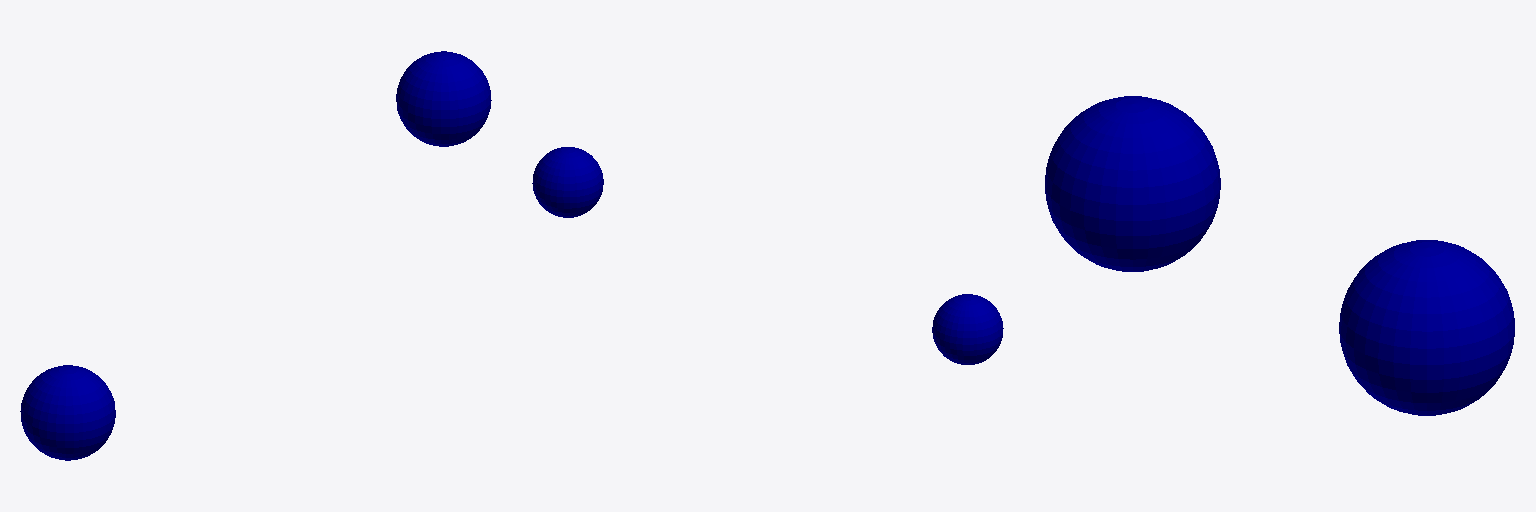
robot.urdf — Floor:
<?xml version="1.0"?>
<robot name="Floor">
    <link name="robot_base">
        <visual name="ball1">
            <origin rpy="0.000000 0.000000 -0.000000" xyz="0.000000 1.000000 0.80000" />
            <geometry>
                <sphere radius="0.3"/>
            </geometry>
            <material name="CFSObstacle_material">
                <color rgba="0.000000 0.0 0.640000 1.0" />
            </material>
        </visual>
        <collision name="ball1">
            <origin rpy="0.000000 0.000000 -0.000000" xyz="0.000000 1.000000 0.80000" />
            <geometry>
                <sphere radius="0.3"/>
                <dissipation>1</dissipation>
            </geometry>
        </collision>
        <visual name="ball2">
            <origin rpy="0.000000 0.000000 -0.000000" xyz="3.3 2.00000 1.80000" />
            <geometry>
                <sphere radius="0.3"/>
            </geometry>
            <material name="CFSObstacle_material">
                <color rgba="0.000000 0.0 0.640000 1.0" />
            </material>
        </visual>
        <collision name="ball2">
            <origin rpy="0.000000 0.000000 -0.000000" xyz="3.3 2.00000 1.80000" />
            <geometry>
                <sphere radius="0.3"/>
                <dissipation>1</dissipation>
            </geometry>
        </collision>
        <visual name="Floor_2">
            <origin rpy="1.57 3.141593 -3.141593" xyz="0.000000 0.000000 -0.100000" />
            <geometry>
                <mesh filename="[local-path]/Documents/workspace/drake_cfs_lib/script/environment_description/environment/environment_Floor_vis_1.obj" />
            </geometry>
            <material name="Floor_material">
                <color rgba="0.640000 0.640000 0.640000 1.0" />
            </material>
        </visual>
        <visual name="Floor_3">
            <origin rpy="1.57 3.141593 -3.141593" xyz="0.000000 0.000000 -0.100000" />
            <geometry>
                <mesh filename="[local-path]/Documents/workspace/drake_cfs_lib/script/environment_description/environment/environment_Floor_vis_2.obj" />
            </geometry>
            <material name="Floor_material">
                <color rgba="0.640000 0.640000 0.640000 1.0" />
            </material>
        </visual>
        <visual name="Box">
            <origin rpy="3.141533 3.141591 -3.141587" xyz="-0.875000 0.575000 0.880000" />
            <geometry>
                <mesh filename="[local-path]/Documents/workspace/drake_cfs_lib/script/environment_description/environment/environment_Box_vis_1.obj" />
            </geometry>
            <material name="Box_material">
                <color rgba="0.627451 0.627451 0.627451 1.0" />
            </material>
        </visual>
        <visual name="Bagging_Machine">
            <origin rpy="0.0 0.0 1.57" xyz="2.025000 0.935000 0.830000" />
            <geometry>
                <mesh filename="[local-path]/Documents/workspace/drake_cfs_lib/script/environment_description/environment/environment_BaggingMachine_vis_1.obj" />
            </geometry>
            <material name="BaggingMachine_material">
                <color rgba="1.000000 1.000000 1.000000 1.0" />
            </material>
        </visual>
        <visual name="Table">
            <origin rpy="1.570796 1.570853 -1.570796" xyz="-0.690000 0.700000 0.470000" />
            <geometry>
                <mesh filename="[local-path]/Documents/workspace/drake_cfs_lib/script/environment_description/environment/environment_Table_vis_1.obj" />
            </geometry>
            <material name="Table_material">
                <color rgba="1.000000 1.000000 1.000000 1.0" />
            </material>
        </visual>
    </link>
</robot>

--- Facts derived from the render (not from the file) ---
3 views of the same robot in one strip: view 1: azimuth 30°, elevation 25°; view 2: azimuth 150°, elevation 25°; view 3: azimuth 270°, elevation 25° (orthographic).
Robot: Floor — 1 links, 0 joints (none); root link robot_base; default pose: all joints at 0.
Visible links, largest first — view 1: robot_base; view 2: robot_base; view 3: robot_base.
Link boxes in pixels (bbox=[...]): robot_base: bbox=[20, 51, 491, 460]; robot_base: bbox=[532, 147, 1003, 364]; robot_base: bbox=[1045, 96, 1514, 415].
Size in the robot's own frame: 3.9 by 1.6 by 1.6 metres.
Geometry: only primitive shapes (box / cylinder / sphere) drawn; not drawn: 5 mesh visuals (reference in a form the renderer does not follow).